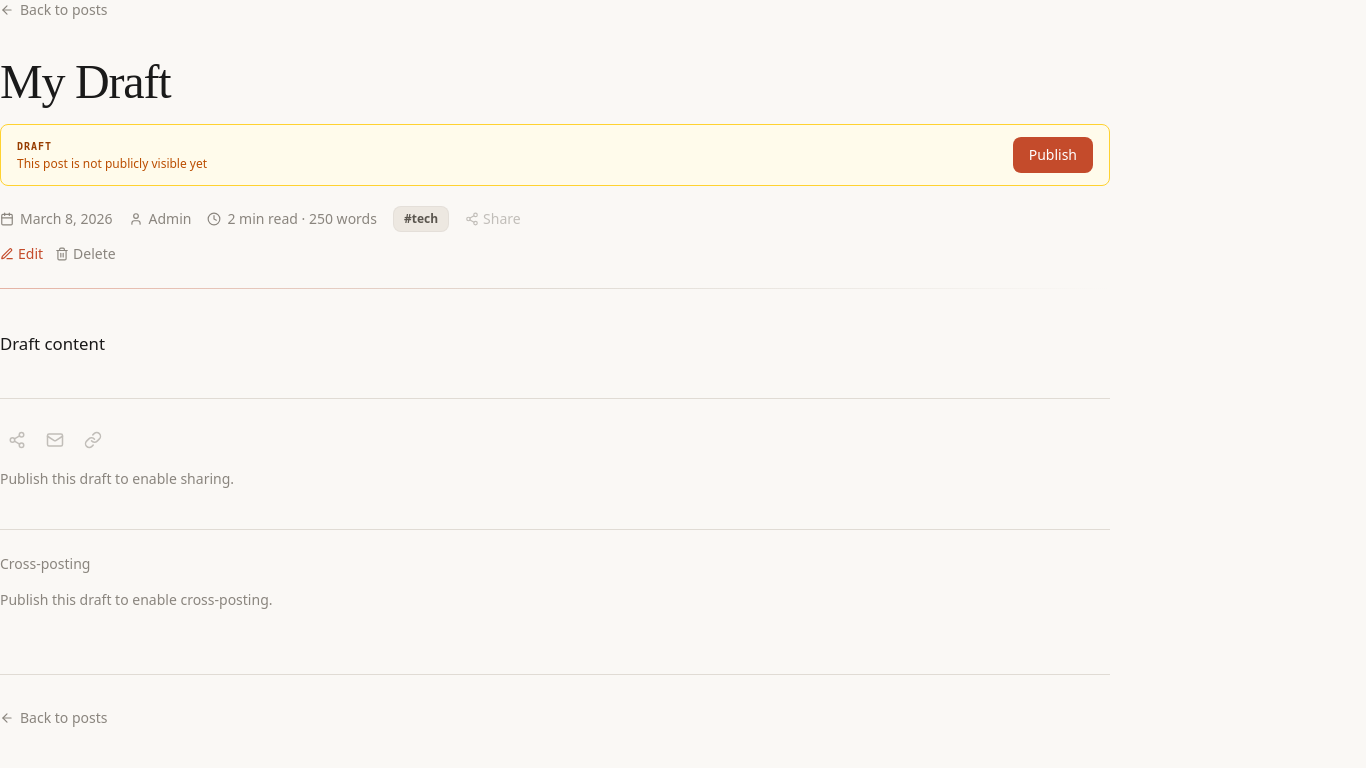
Test: PostPage › shows unified single-button confirmation dialog for directory-backed post
The width and height of the screenshot is (1366, 768).
Expected: the heading "My Draft" is shown, [0,55,170,108]
Click the button "Delete" at x=85, y=254, box [55,244,116,264]
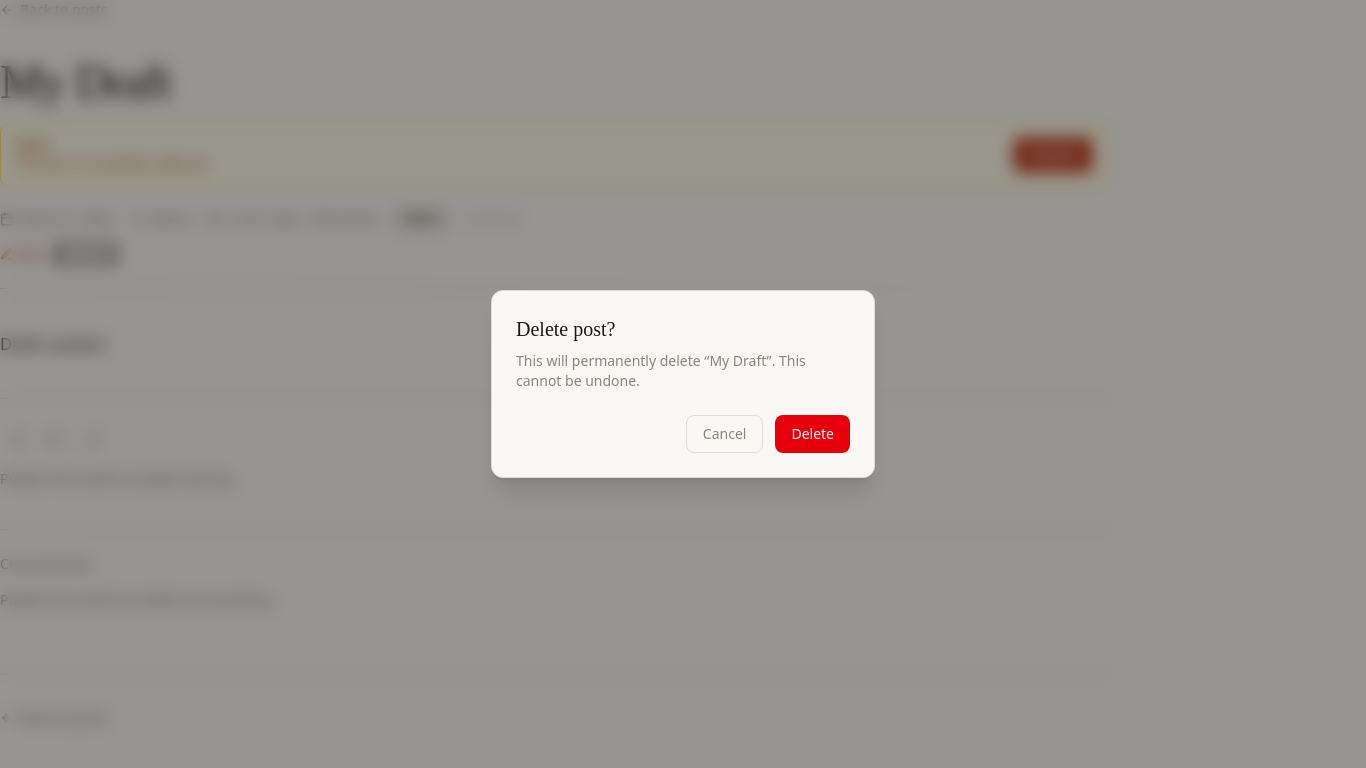
Now the heading "Delete post?" is shown, box [516,318,615,340]
Now the text "This will permanently delete" is shown, box [516,351,709,370]
Now the button with test id "confirm-delete" is shown, box [775,415,850,453]
